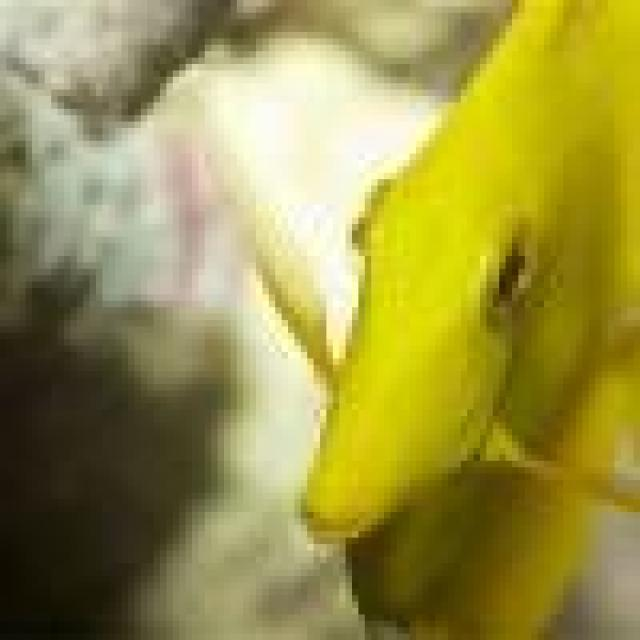YellowTang: (206, 2, 640, 640)
